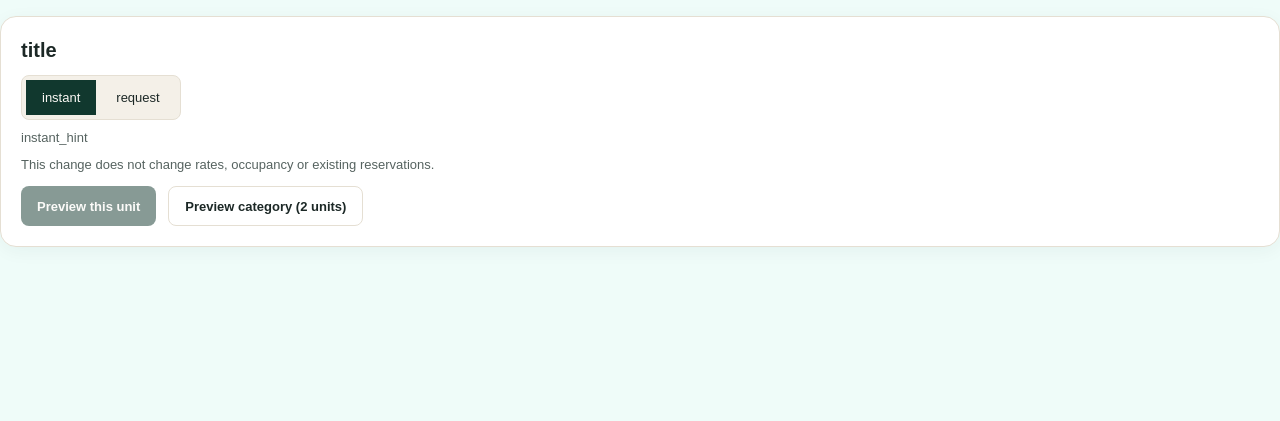
reviewed per-unit booking mode › cannot enable instant mode when server readiness is incomplete
Step 1. Click the button "Preview category (2 units)" → (266,206), box [168,186,363,226]
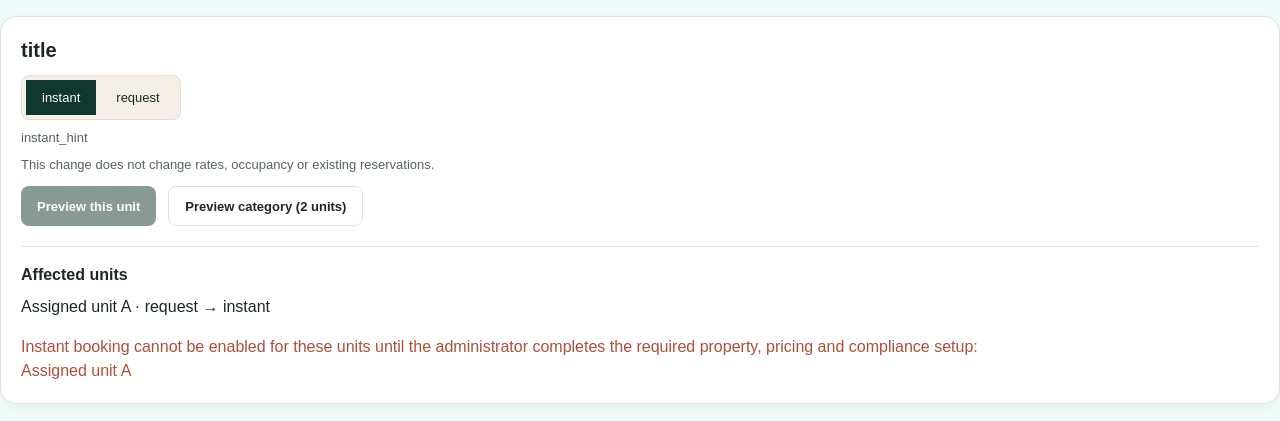
Now the message shows "Instant booking cannot be enabled", box [21,338,978,355]
